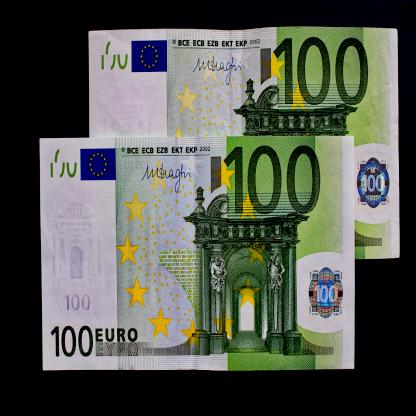euro_banknote: (42, 139, 356, 371), (91, 27, 401, 258)
